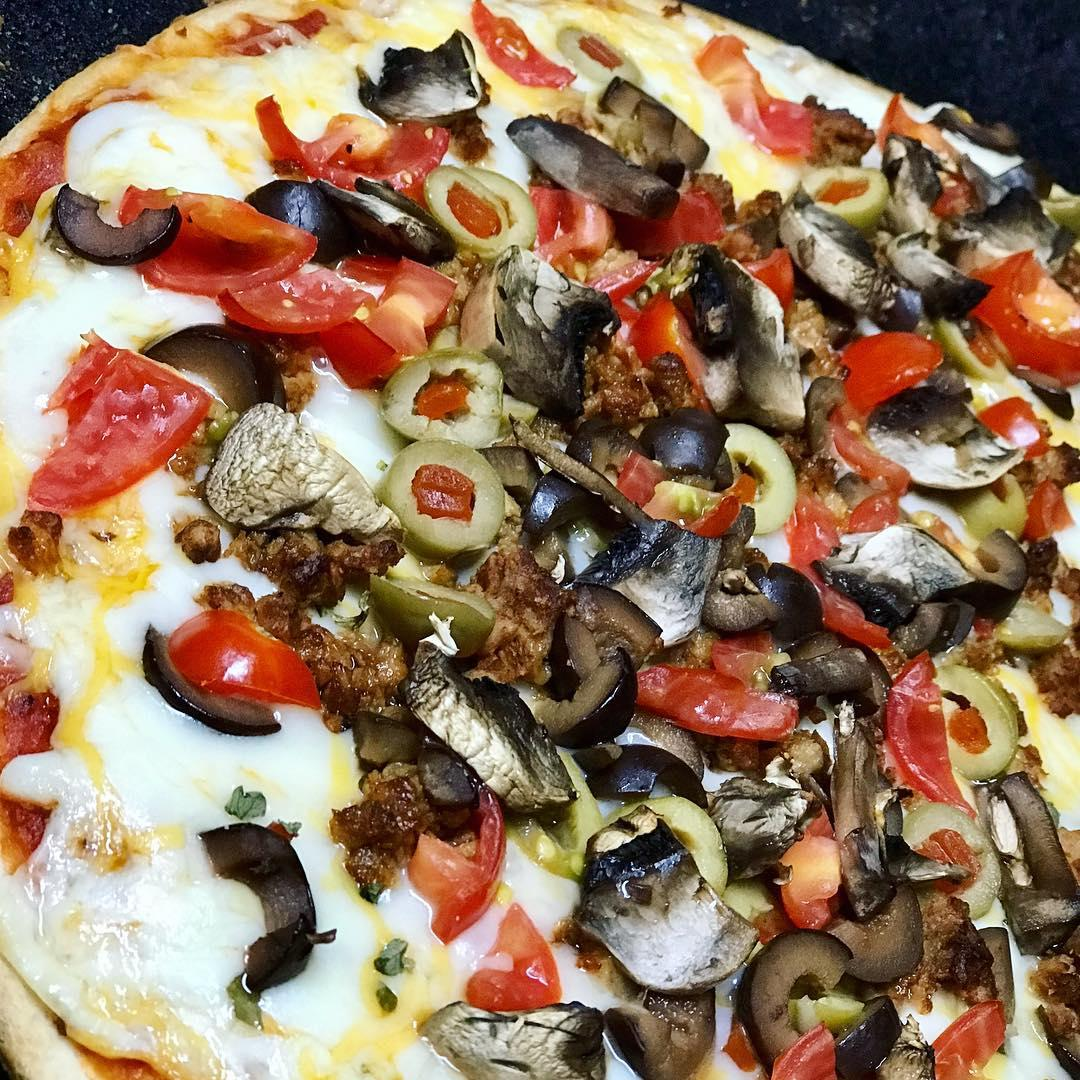Mushroom: (571, 834, 743, 987), (401, 661, 567, 805), (214, 414, 383, 541), (329, 39, 529, 132), (861, 391, 1018, 501), (766, 203, 907, 318), (514, 611, 636, 736), (418, 994, 605, 1071), (614, 518, 707, 625), (741, 328, 820, 423)
Olives: (214, 811, 323, 980), (521, 461, 658, 578), (994, 774, 1080, 960), (824, 838, 920, 976), (418, 161, 543, 265), (754, 928, 840, 1067), (888, 798, 996, 907), (361, 571, 496, 658), (921, 654, 1018, 774), (681, 421, 803, 516), (391, 448, 501, 545), (641, 778, 738, 887), (701, 554, 820, 641), (244, 181, 374, 256), (54, 188, 179, 265), (608, 994, 727, 1074), (941, 461, 1036, 538), (978, 161, 1074, 234), (594, 748, 714, 805), (801, 631, 878, 712), (638, 408, 727, 467), (941, 301, 1005, 378), (804, 161, 876, 221)
Pizza: (8, 4, 1080, 1080)
Tomatoes: (38, 334, 207, 516), (228, 254, 443, 376), (784, 488, 907, 629), (258, 98, 452, 183), (134, 188, 301, 283), (394, 814, 509, 949), (968, 241, 1080, 376), (638, 631, 783, 734), (164, 608, 321, 703), (664, 188, 792, 301), (704, 34, 809, 163), (834, 331, 927, 472), (614, 271, 712, 396), (884, 654, 958, 805), (888, 98, 974, 216), (478, 898, 554, 1018), (468, 8, 576, 87), (931, 1008, 1002, 1080), (528, 188, 594, 254), (774, 1031, 845, 1080)
